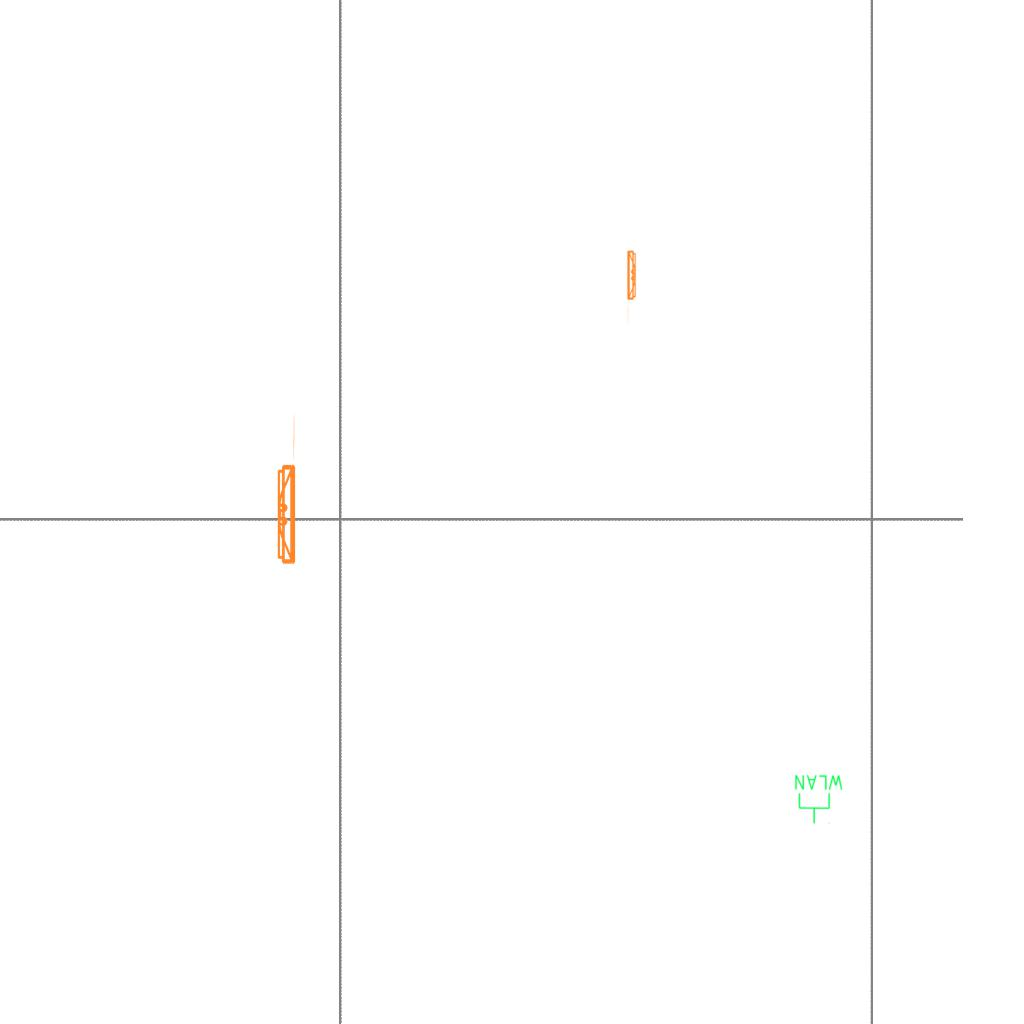Sicherheitsleuchte_Wandeinbau: (273, 410, 298, 569), (626, 248, 638, 327)
WLAN: (793, 773, 845, 825)
